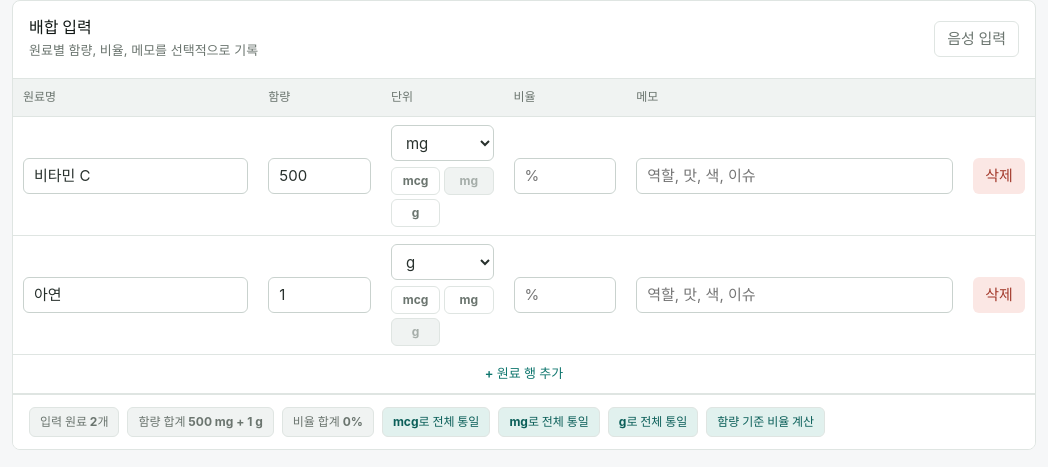
FormulaInputTable › normalizes mixed gram and milligram amounts to milligrams
Click the button "mg로 전체 통일". click: (549,422)
box: [498,407,600,437]
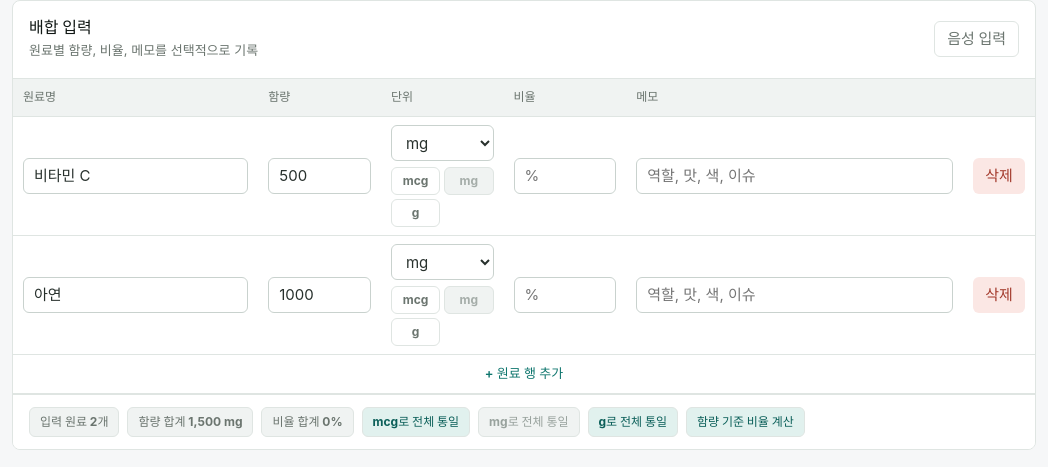
Check: the 4th field named "함량 2" holds "1000", box [268,277,371,313]
Check: the 2nd dropdown named "단위 2" shows "mg", box [391,244,494,280]
Check: the text "함량 합계 1,500 mg" is shown, box [128,407,254,437]
